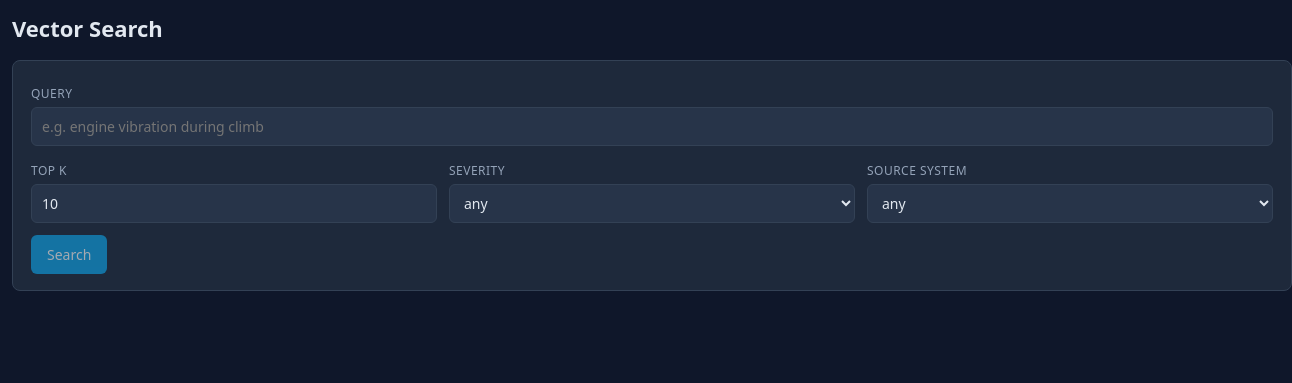
Test: VectorSearch › renders the empty-state when the API returns no matches
In the field with placeholder "e.g. engine vibration during climb": {"x": 652, "y": 126} top-left (31, 107), bottom-right (1273, 146), type "x"
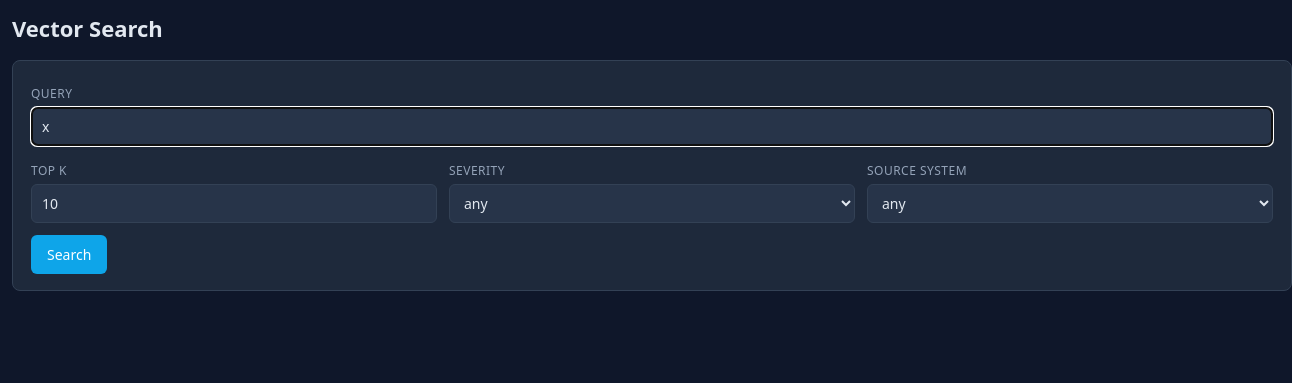
Click the button "Search": {"x": 69, "y": 254} top-left (31, 235), bottom-right (107, 274)
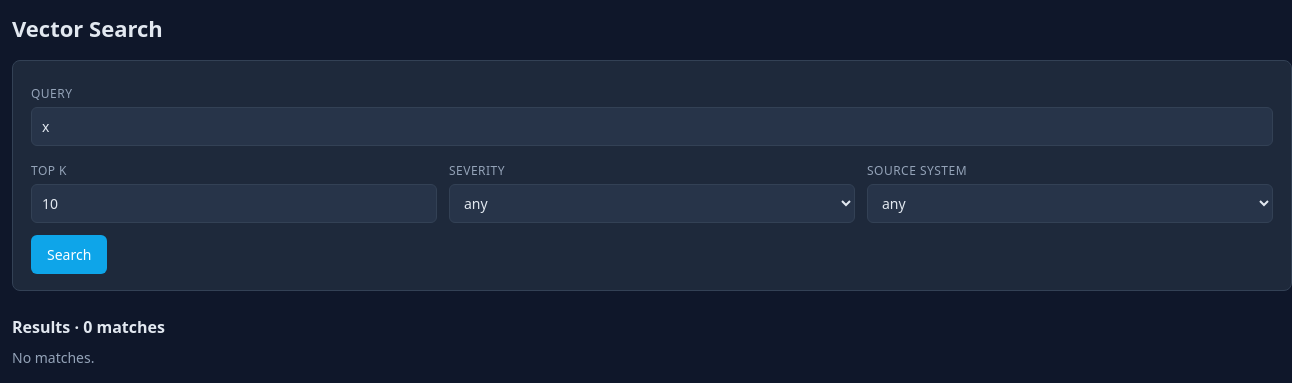
Result: the text "No matches." is shown at top-left (12, 348), bottom-right (94, 367)
